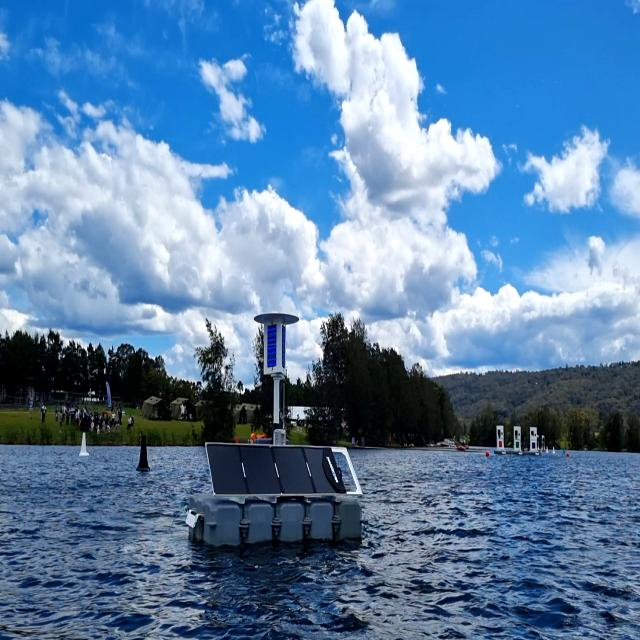led: (264, 320, 278, 369)
